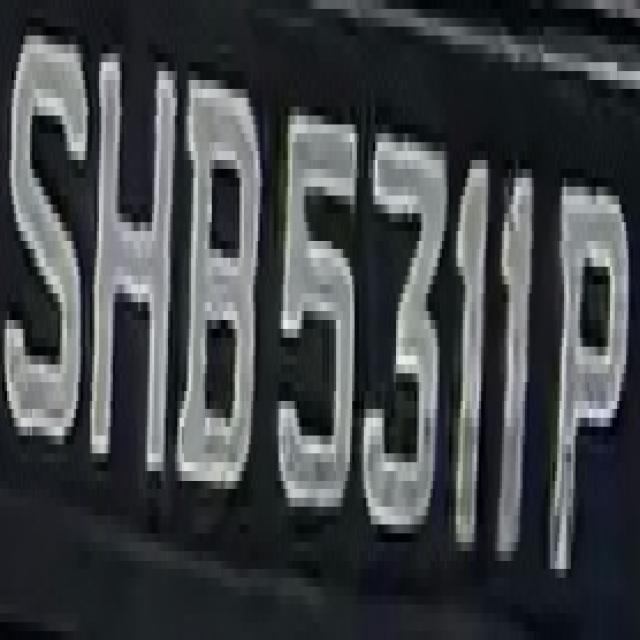1: (495, 151, 539, 578), (454, 151, 486, 587)
3: (368, 71, 447, 551)
5: (276, 80, 359, 498)
B: (180, 62, 264, 534)
H: (88, 36, 178, 507)
P: (555, 142, 633, 587)
S: (11, 54, 90, 462)
